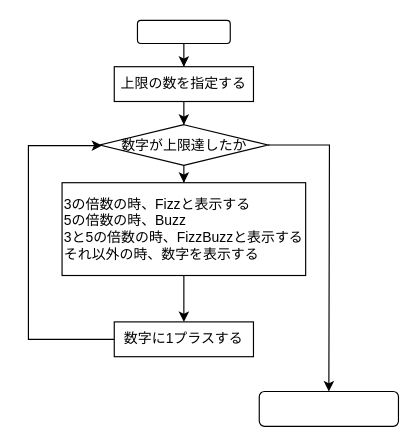
The diagram is 419 pixels wide and 447 high, and some of its shapes have lost their labels. Each missing label, with the centre of its shape:
"終了" goes at [328,408].
"開始" goes at [183,31].
